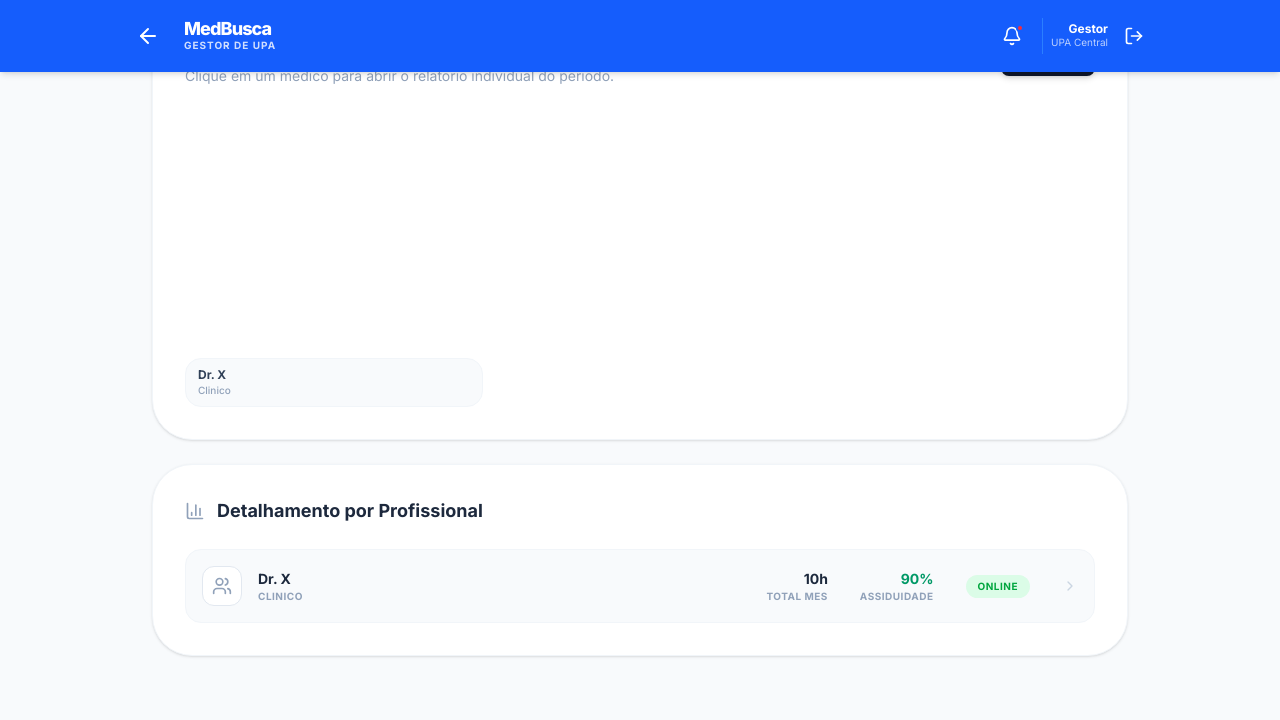
it: ReportsDashboard › abre o relatorio individual do medico para gestor upa
The width and height of the screenshot is (1280, 720).
(page scrolled)
Step 1. Click the button with aria-label "ver relatorio de dr. x" → (222, 586), box x1=185 y1=549 x2=1095 y2=623
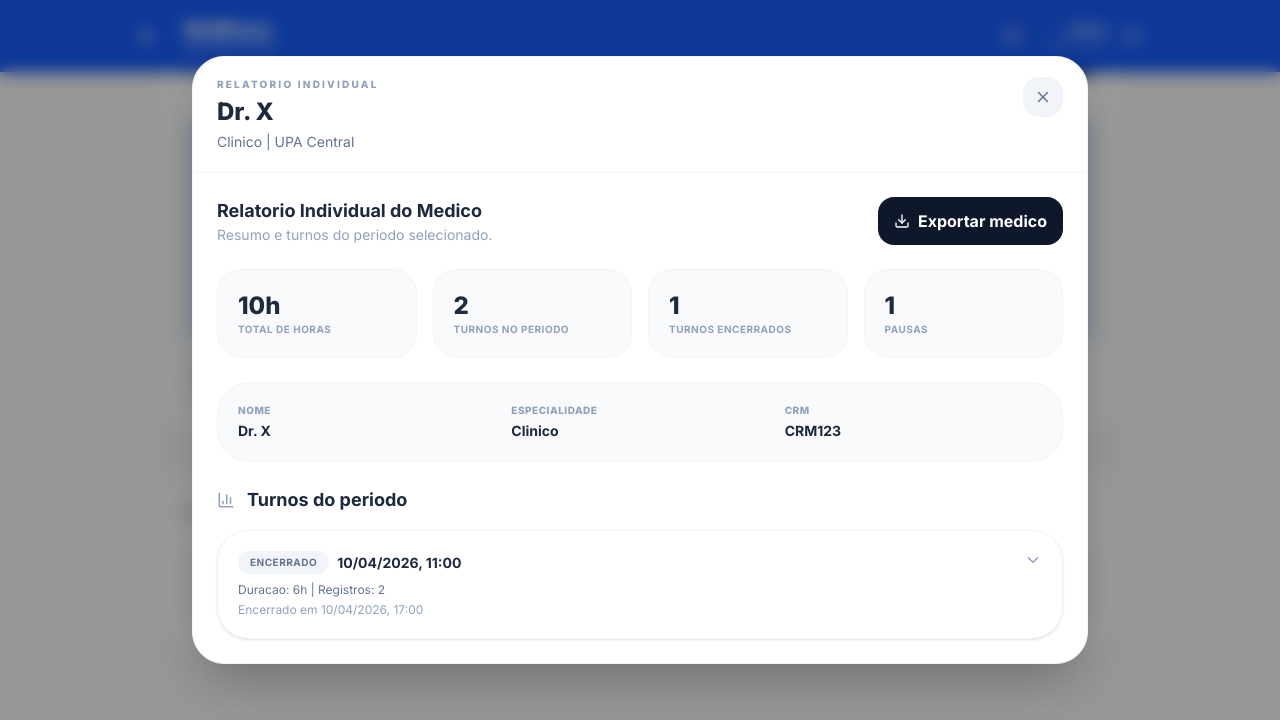
Check: the heading "Relatorio Individual do Medico" is shown, box x1=217 y1=197 x2=492 y2=225
Check: the heading "Turnos do periodo" is shown, box x1=247 y1=486 x2=407 y2=514
